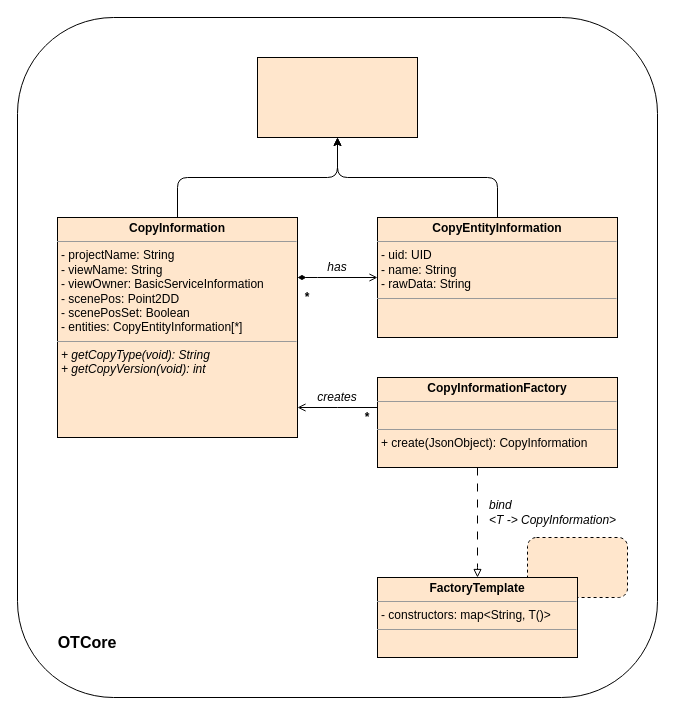
This 675x715 diagram has some shape labels left out. The shapes that lost their labels are listed below. From the top down, each one's centre as x and y in pixels, then its label:
the point at 337,97: Serializable
the point at 577,567: T: Type
